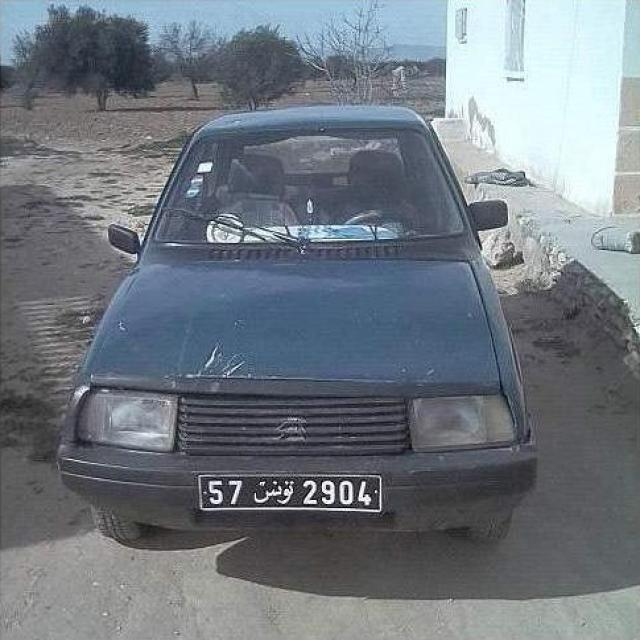licence plate: (199, 474, 385, 518)
